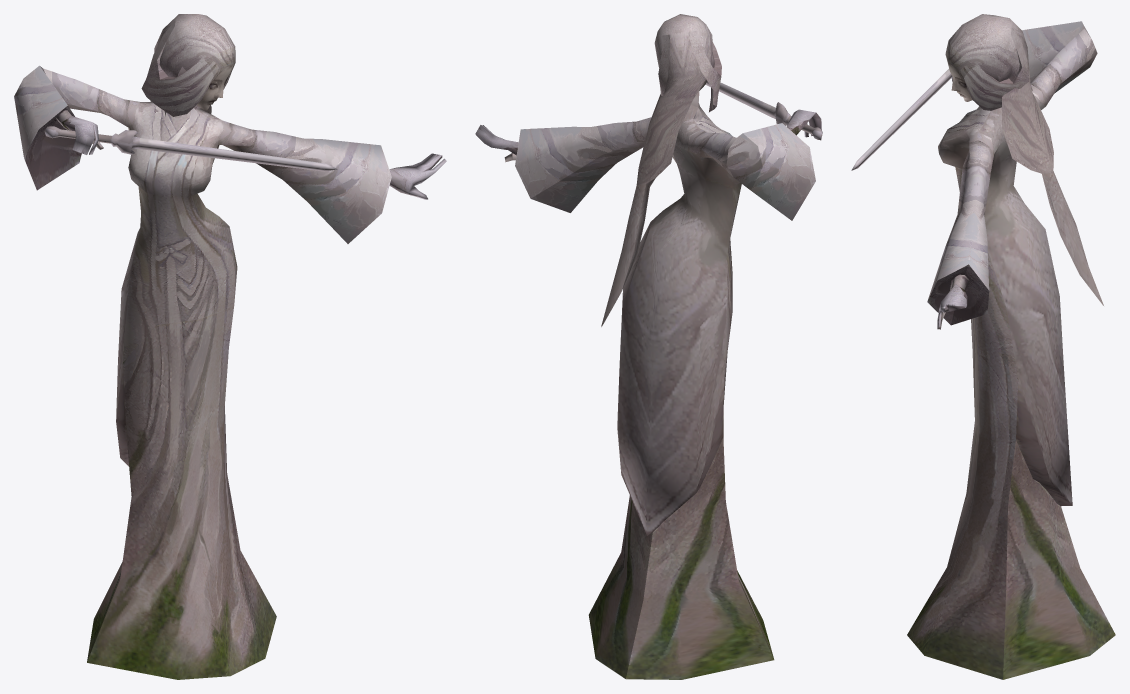
File: yw_langhuanfudi_diaoxiang01.FBX
3 views of the same model, side by side, from view 1: azimuth 30°, elevation 25°; view 2: azimuth 150°, elevation 25°; view 3: azimuth 270°, elevation 25° (orthographic). The views are drawn at different scales.
Visible parts, largest first — view 1: yw_langhuanfudi_diaoxiang01; view 2: yw_langhuanfudi_diaoxiang01; view 3: yw_langhuanfudi_diaoxiang01.
Boxes of the visible parts, bbox=[...] form: yw_langhuanfudi_diaoxiang01: bbox=[14, 14, 446, 679]; yw_langhuanfudi_diaoxiang01: bbox=[475, 14, 822, 679]; yw_langhuanfudi_diaoxiang01: bbox=[851, 14, 1115, 679].
Size of the model in its own units: 108 by 170 by 65.45.
